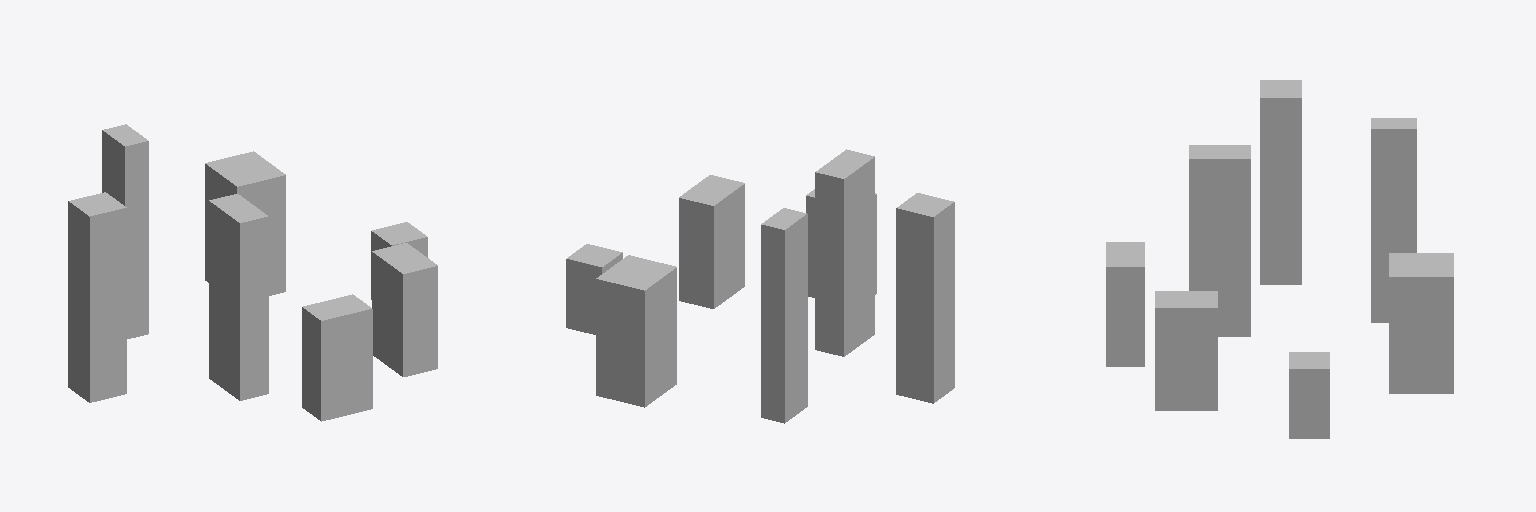
The model's file is grass_short.obj.
3 renders of one model, left to right at view 1: azimuth 30°, elevation 25°; view 2: azimuth 150°, elevation 25°; view 3: azimuth 270°, elevation 25°, orthographic.
Visible parts, largest first — view 1: Cube.002, Cube.004, Cube.001, Cube.003, Cube.006, Cube, Cube.005; view 2: Cube.002, Cube.004, Cube, Cube.006, Cube.003, Cube.005, Cube.001; view 3: Cube.004, Cube, Cube.002, Cube.003, Cube.006, Cube.001, Cube.005.
Part boxes in pixels (left/top/right/bottom): Cube.002: left=68, top=192, right=126, bottom=402; Cube.004: left=209, top=194, right=268, bottom=400; Cube.001: left=302, top=294, right=372, bottom=421; Cube.003: left=372, top=243, right=437, bottom=376; Cube.006: left=102, top=124, right=148, bottom=338; Cube: left=205, top=151, right=285, bottom=295; Cube.005: left=371, top=222, right=427, bottom=299; Cube.002: left=896, top=193, right=954, bottom=403; Cube.004: left=815, top=149, right=874, bottom=356; Cube: left=596, top=255, right=676, bottom=407; Cube.006: left=761, top=208, right=807, bottom=423; Cube.003: left=679, top=175, right=744, bottom=308; Cube.005: left=566, top=244, right=622, bottom=334; Cube.001: left=806, top=189, right=876, bottom=297; Cube.004: left=1189, top=145, right=1250, bottom=336; Cube: left=1389, top=253, right=1453, bottom=393; Cube.002: left=1260, top=80, right=1301, bottom=284; Cube.003: left=1155, top=291, right=1217, bottom=410; Cube.006: left=1371, top=118, right=1416, bottom=322; Cube.001: left=1106, top=242, right=1144, bottom=366; Cube.005: left=1289, top=352, right=1329, bottom=438.
Bounding box in the file's own units: 0.6835 × 0.3577 × 0.584.